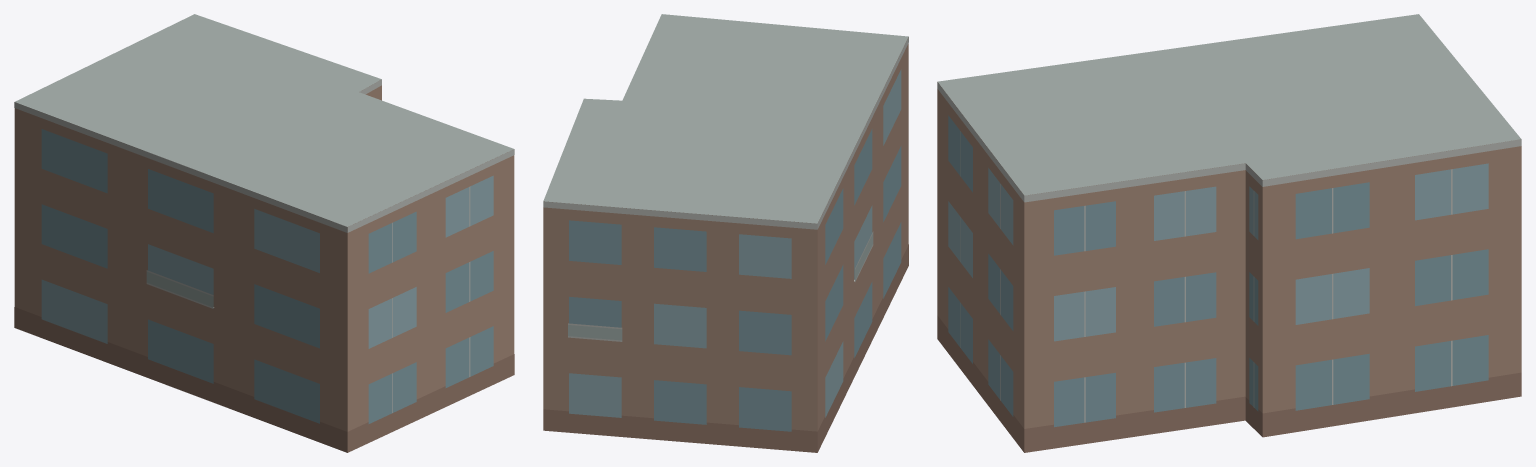
The model's file is survey-upis-32693242.glb.
The picture shows the model from 3 angles, left to right: view 1: azimuth 30°, elevation 25°; view 2: azimuth 150°, elevation 25°; view 3: azimuth 270°, elevation 25°; orthographic projection. The views are drawn at different scales.
Parts seen in each view (by area): view 1: survey-upis-32693242.tmp; view 2: survey-upis-32693242.tmp; view 3: survey-upis-32693242.tmp.
Boxes of the visible parts, x1,y1,x2,y2 form: survey-upis-32693242.tmp: [14, 14, 514, 452]; survey-upis-32693242.tmp: [543, 14, 908, 452]; survey-upis-32693242.tmp: [937, 14, 1521, 452].
Size of the model in its own units: 13.86 by 9.15 by 18.84.
